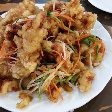guobaorou: (1, 1, 105, 106)
